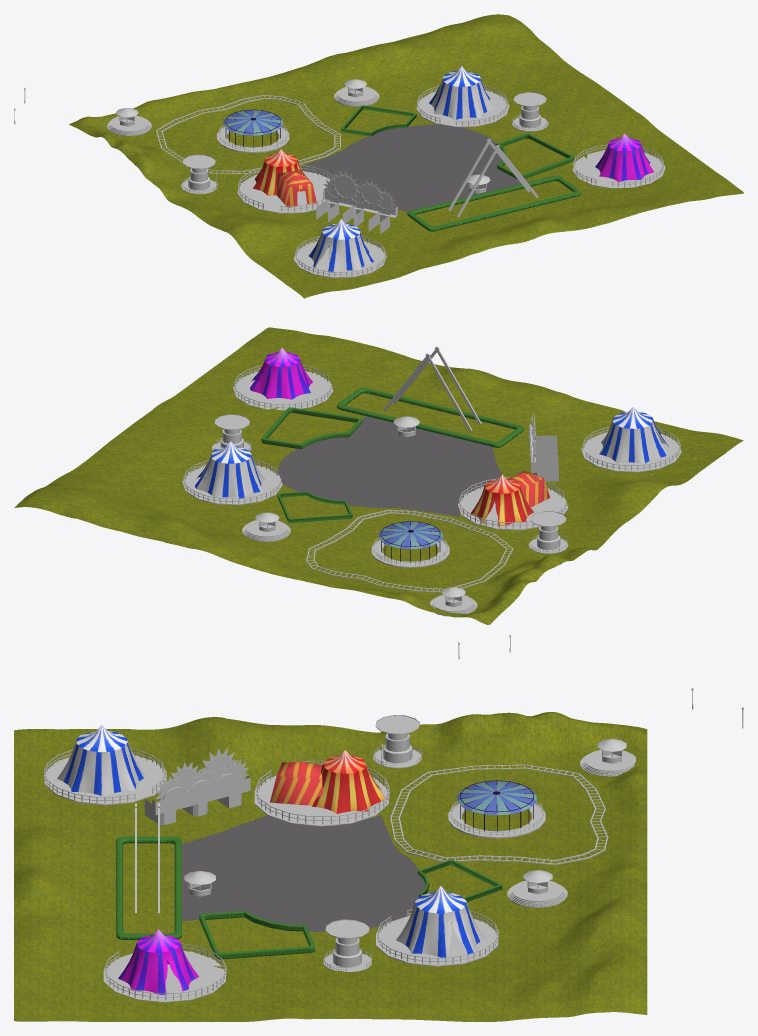
Rendered from Environment02.FBX.
The picture shows the model from 3 angles, top to bottom: view 1: azimuth 30°, elevation 25°; view 2: azimuth 150°, elevation 25°; view 3: azimuth 270°, elevation 25°; orthographic projection. The views are drawn at different scales.
Visible parts, largest first — view 1: Cylinder007; view 2: Cylinder007; view 3: Cylinder007.
Boxes of the visible parts, x1,y1,x2,y2 form: Cylinder007: (14,14,743,298); Cylinder007: (14,327,743,659); Cylinder007: (14,688,743,1021).
Size of the model in its own units: 11946 by 1596 by 11784.
